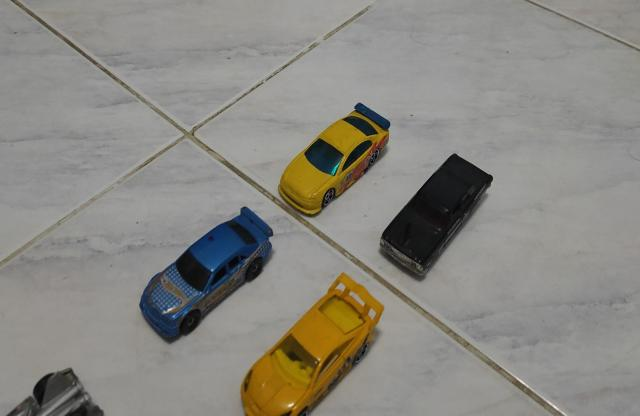01_FORD: (378, 152, 494, 278)
02_OZSOME: (277, 100, 392, 218)
04_MERZEDES: (138, 207, 275, 346)
07_RHLTURBO: (240, 273, 385, 416)
